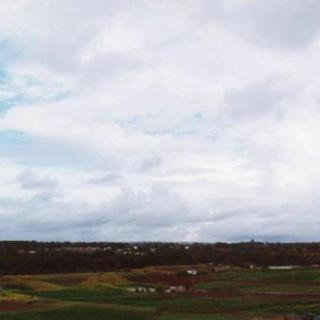Stratocumulus: (0, 0, 320, 244)
